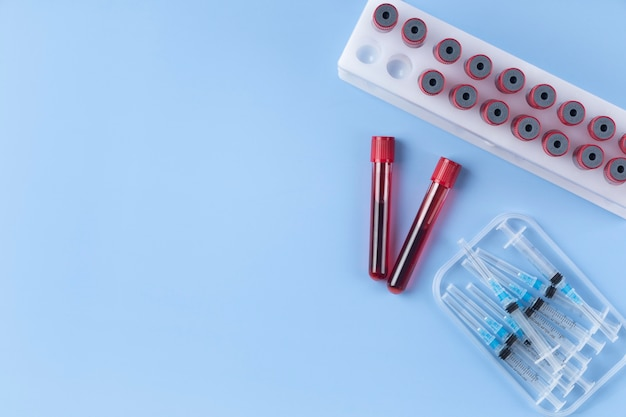blood: (386, 178, 461, 294), (368, 162, 392, 279)
